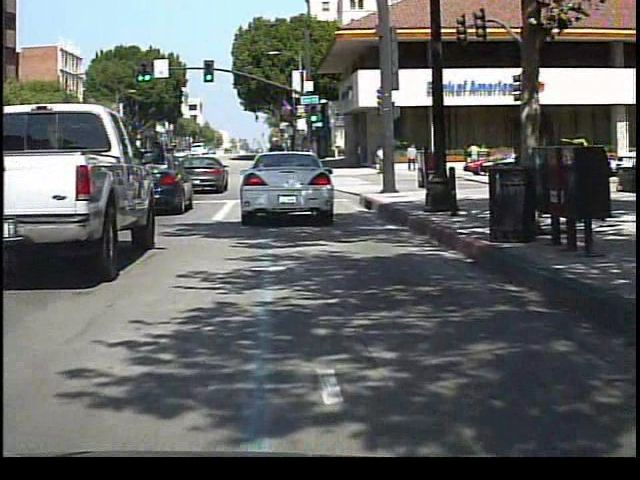person: (465, 138, 484, 172), (405, 142, 422, 174), (376, 140, 391, 175)
